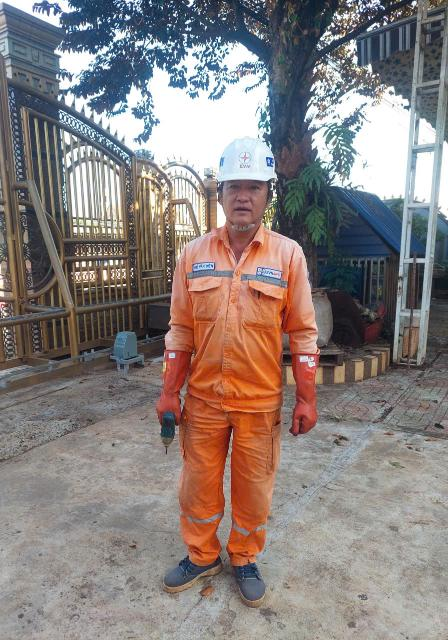gloves: (278, 335, 327, 446), (144, 330, 191, 445)
helmet: (214, 130, 286, 182)
shoes: (166, 530, 214, 595), (236, 555, 269, 613)
